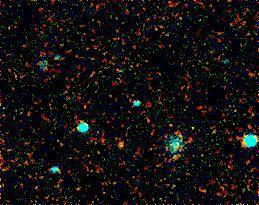star: (107, 129, 137, 159)
